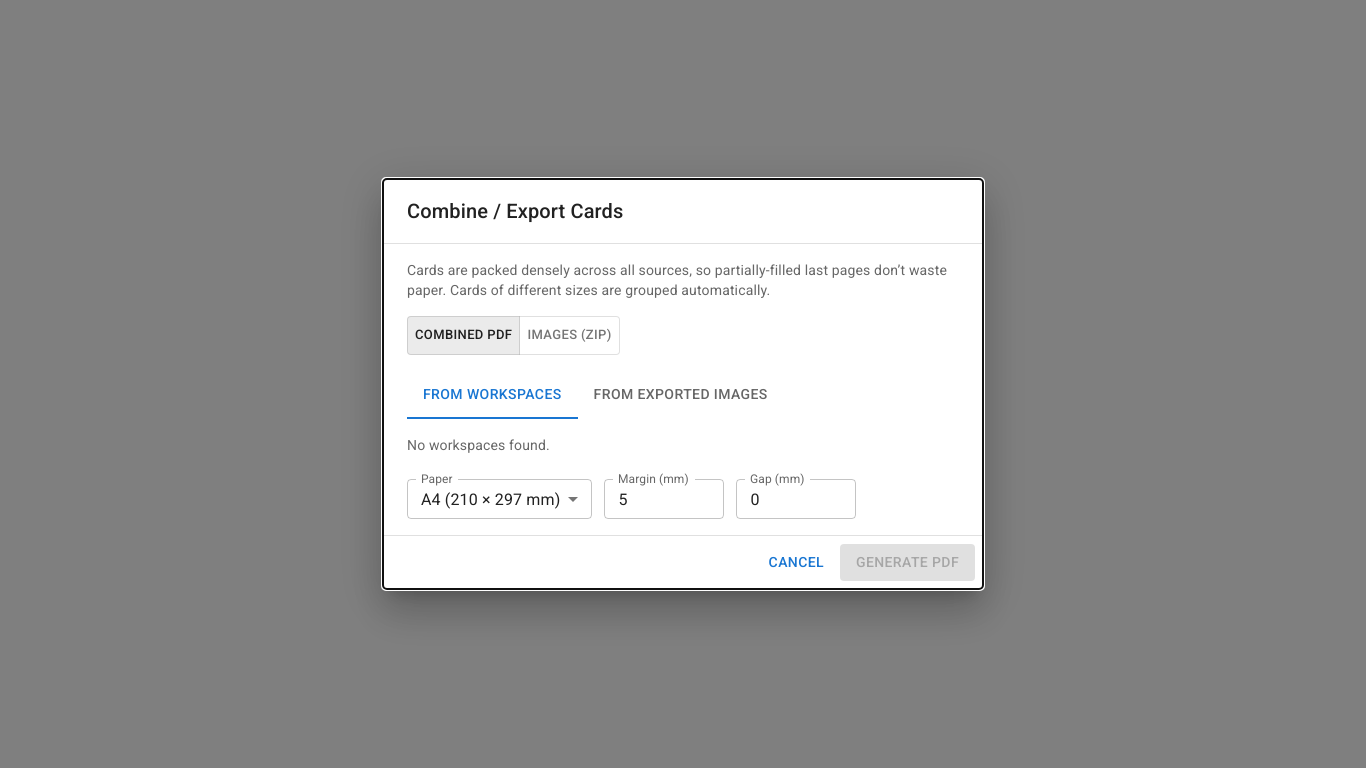
Test: CombinePdfDialog — output mode › switching to Images (ZIP) reveals the PNG/JPG toggle, hides paper settings, and relabels the action button
The width and height of the screenshot is (1366, 768).
Click the button "Images (ZIP)" at coordinates (570, 336), box [519,316,620,355]
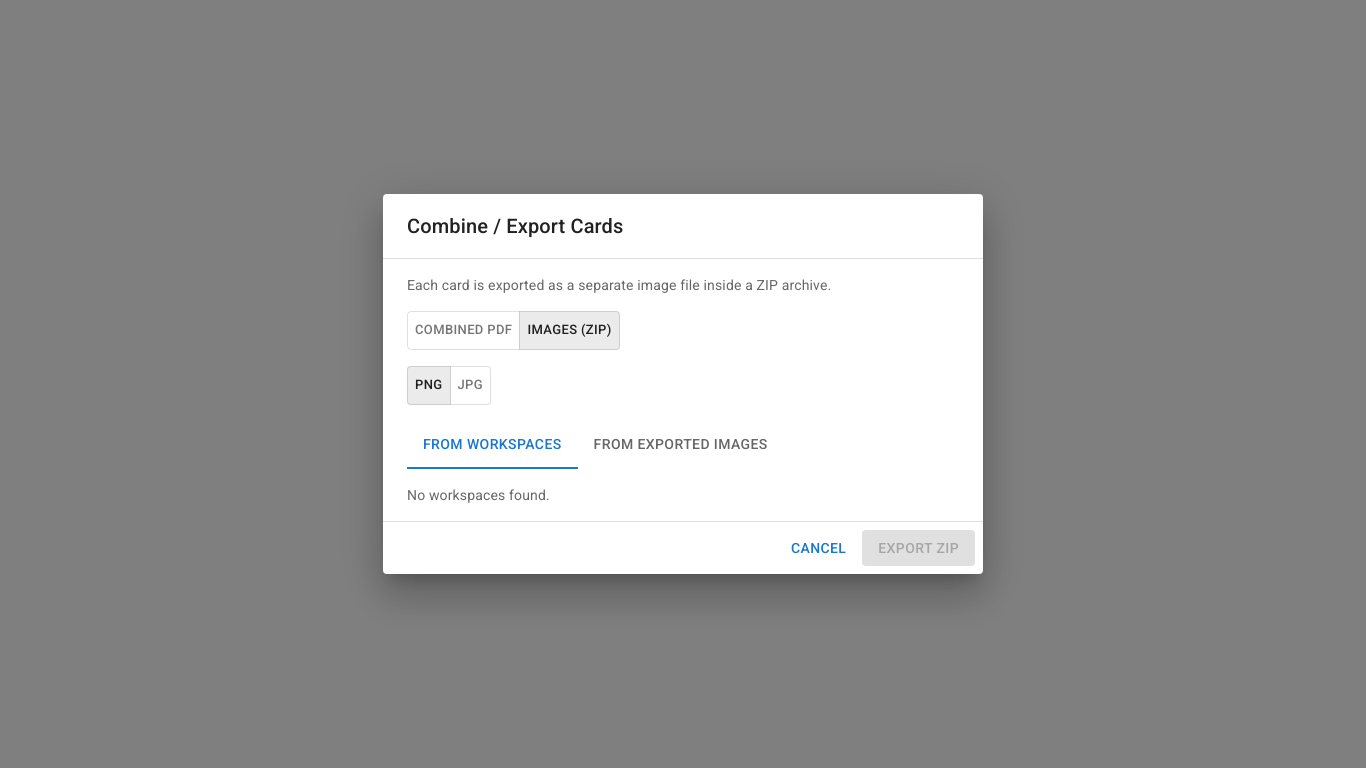
Check: the button "PNG" is shown, box [407,366,450,405]
Check: the button "JPG" is shown, box [450,366,491,405]
Check: the text labelled "Paper" is gone
